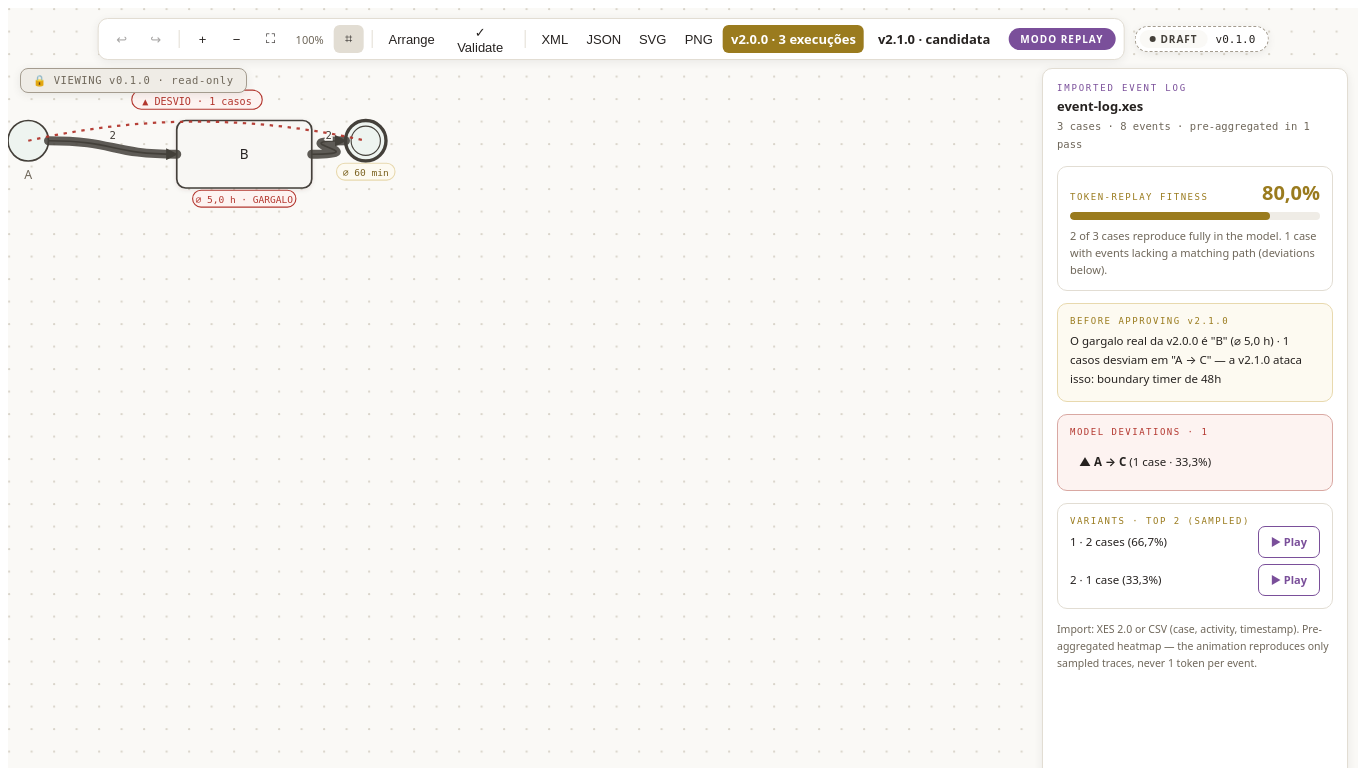
Test: BpmnReplay — governance (7B-3) › switching to the candidate (no runs) shows the empty state, no comparison
Click the tab "v2.1.0 · candidata": coordinates (934, 39) x1=870 y1=25 x2=998 y2=53
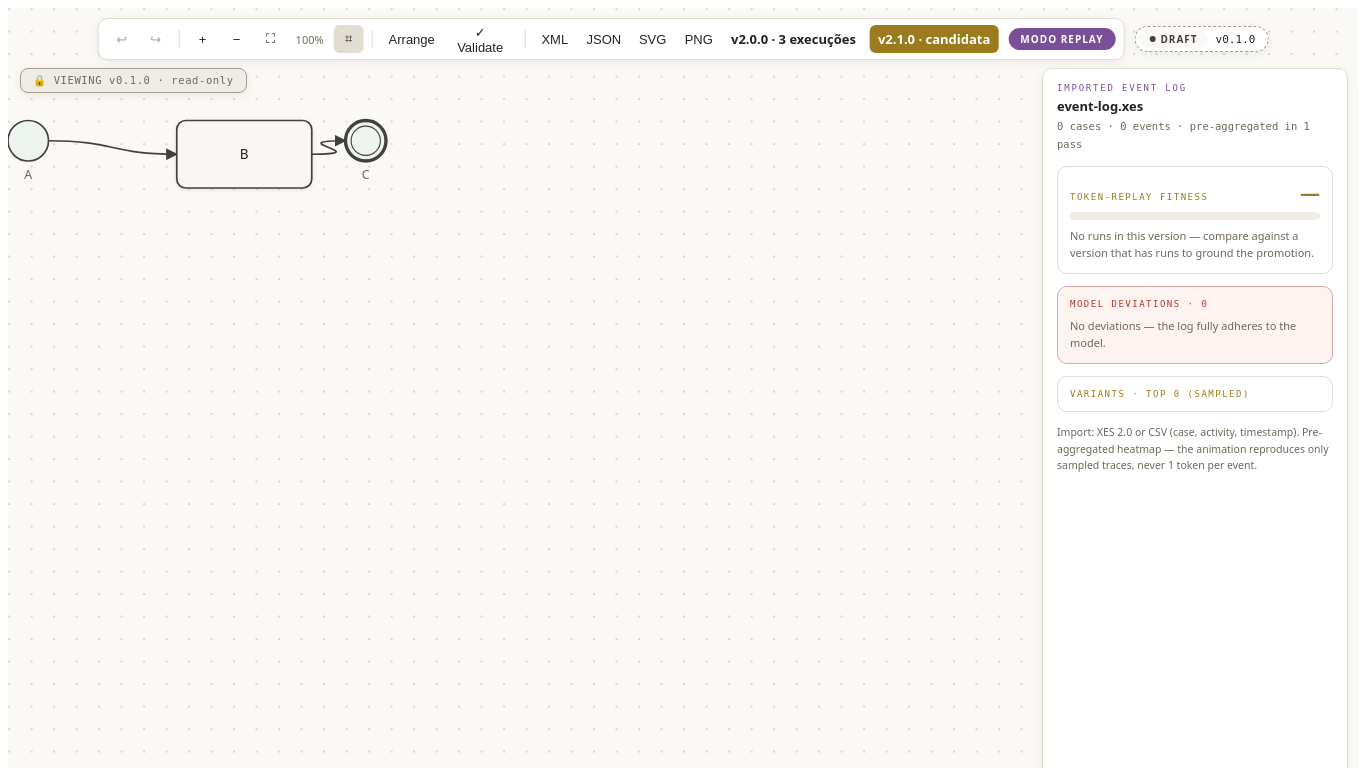
Now the text "—" is shown, box x1=1300 y1=179 x2=1320 y2=206
